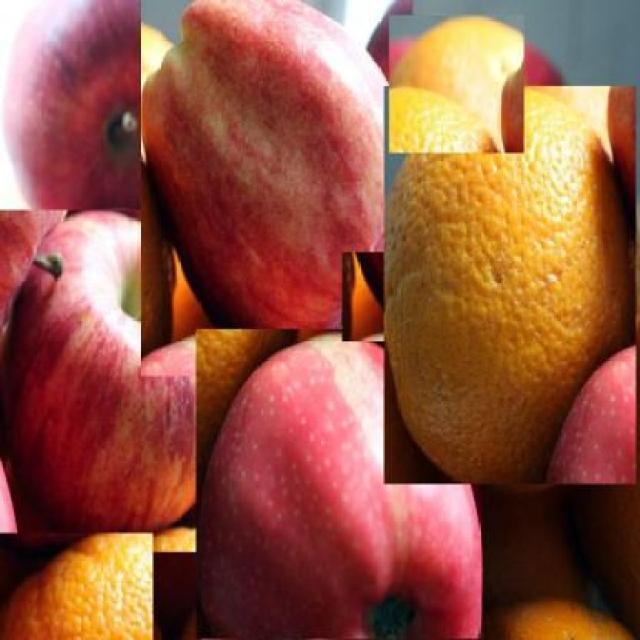Apple: (138, 0, 412, 375), (195, 328, 483, 640), (0, 209, 215, 550), (0, 0, 188, 228)
Orange: (384, 86, 636, 483), (0, 532, 152, 638)
